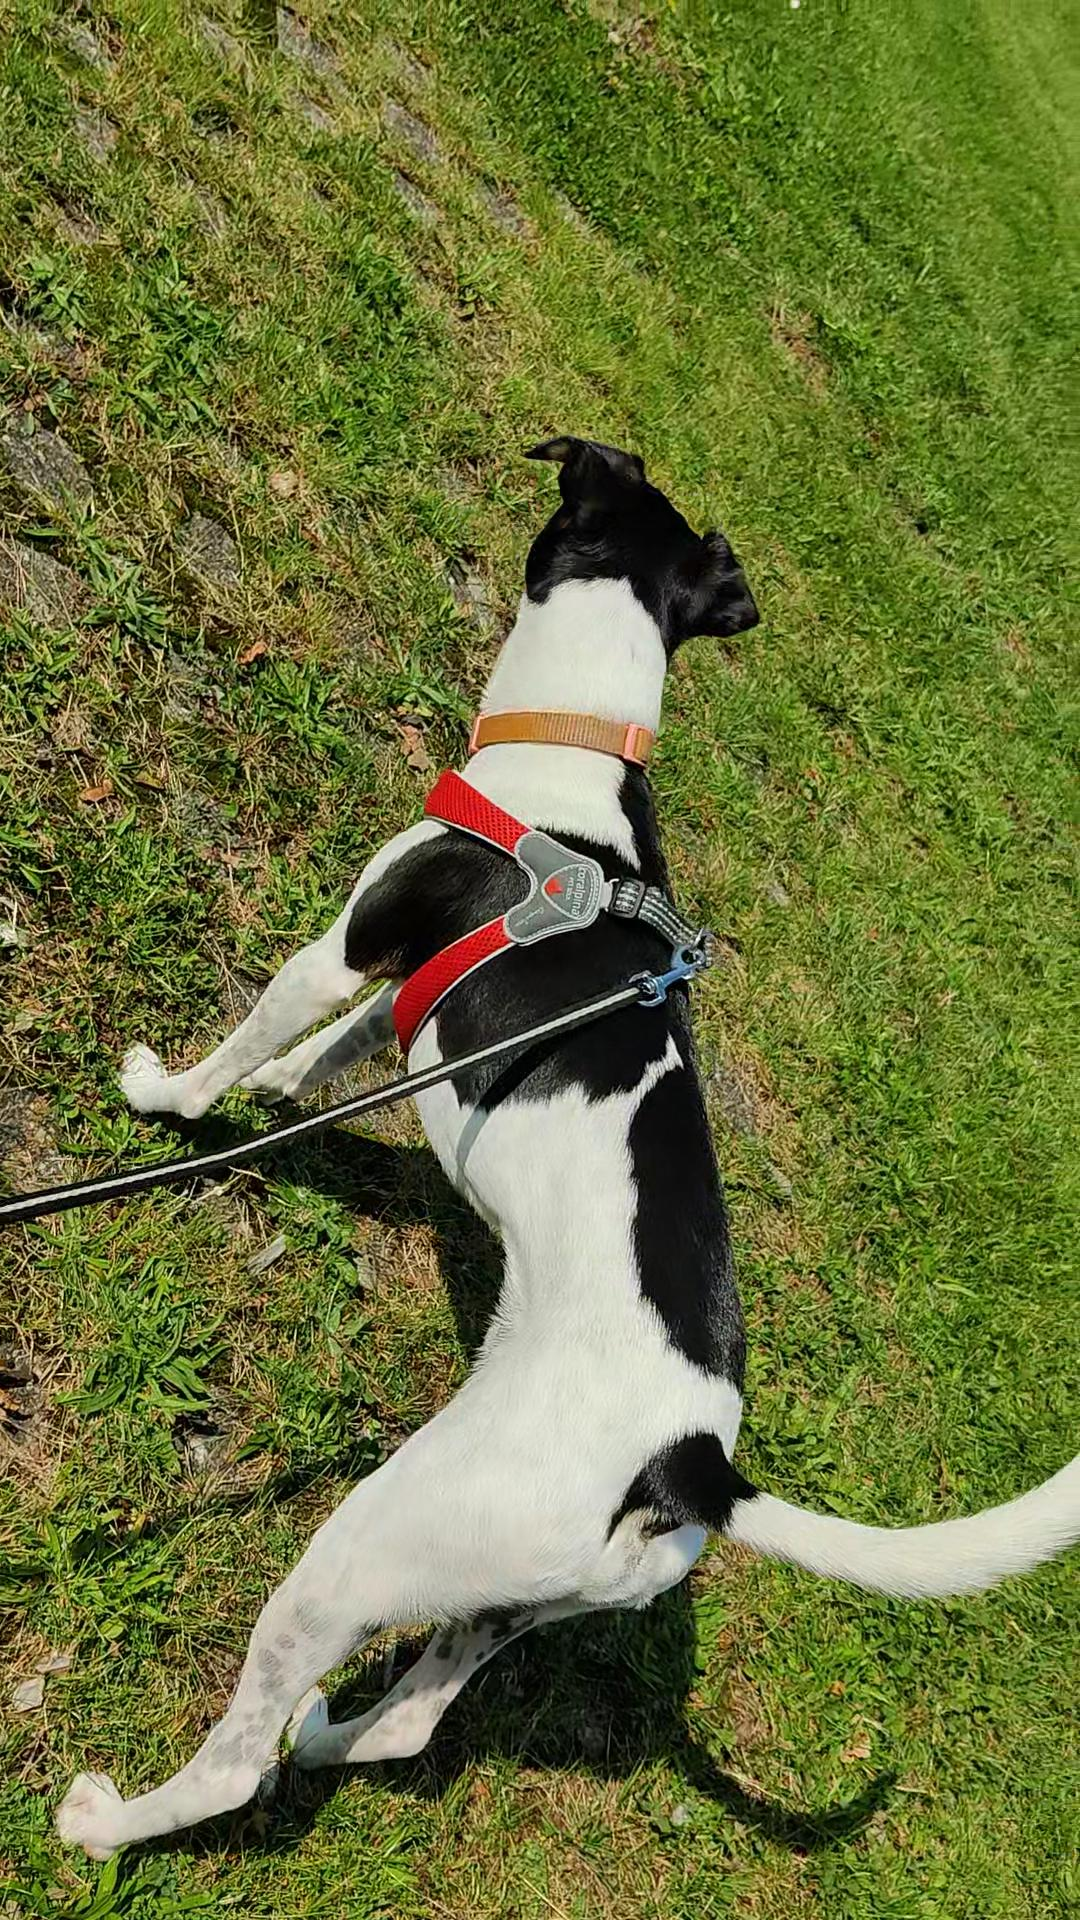Dog: (54, 434, 1079, 1873)
